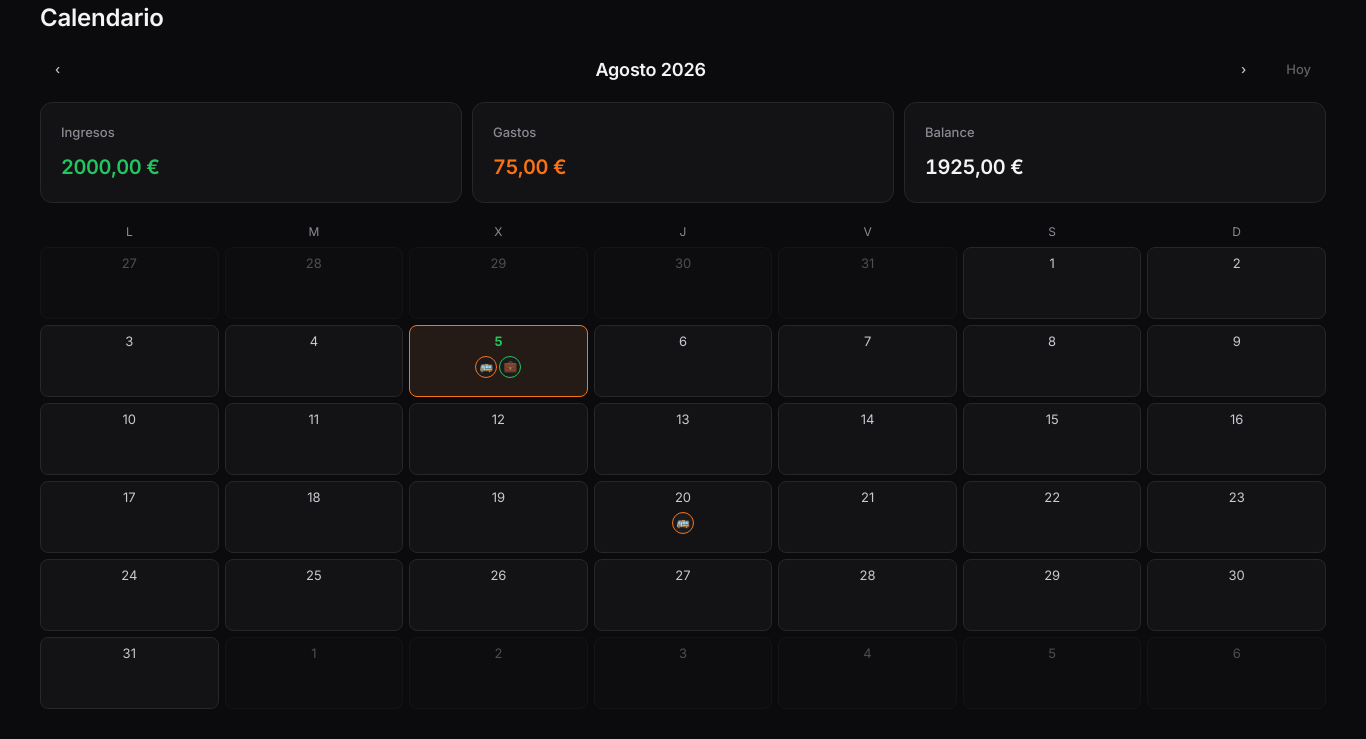
Test: CalendarPage › al pulsar otro día muestra sus movimientos; un día vacío muestra el mensaje
Click the cell named "20 de agosto, 1 movimiento" at (683, 517), box top-left (594, 481), bottom-right (772, 553)
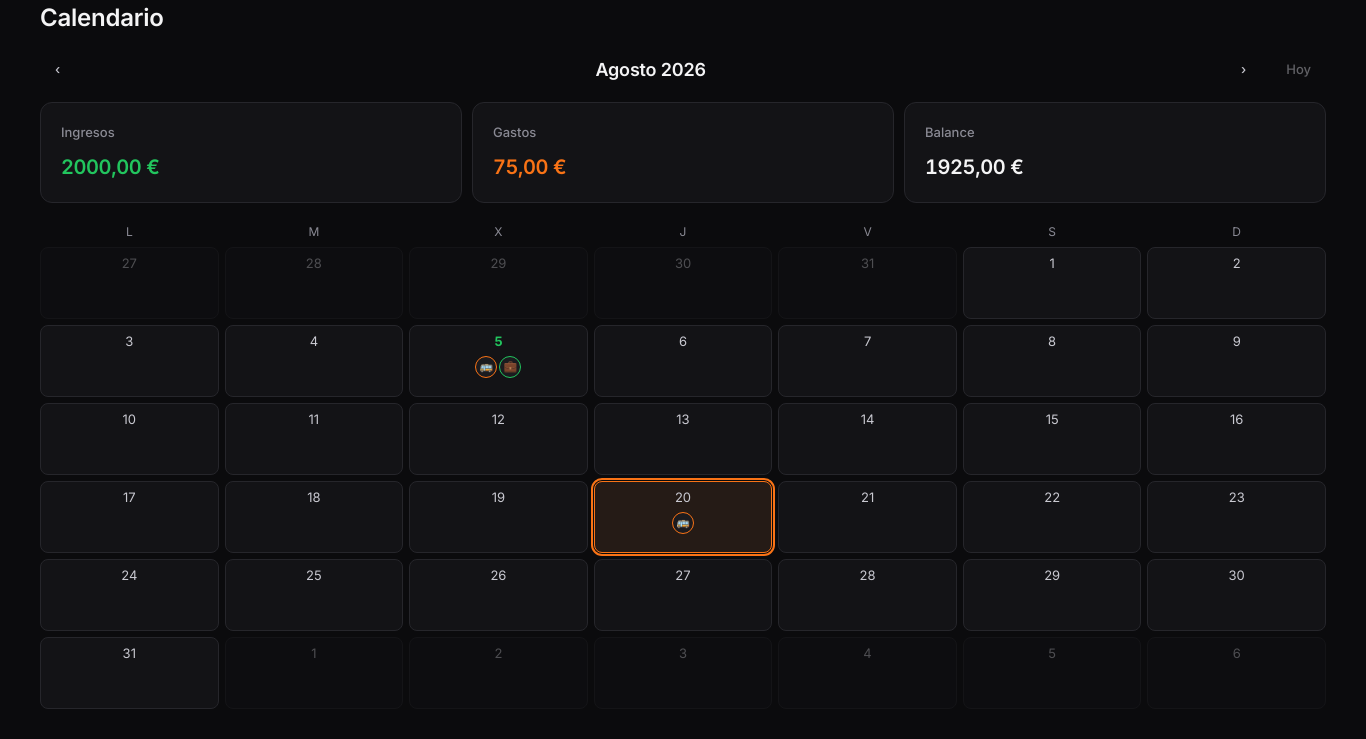
Click the cell named "martes, 11 de agosto" at (314, 439), box top-left (225, 403), bottom-right (403, 475)
(page scrolled)
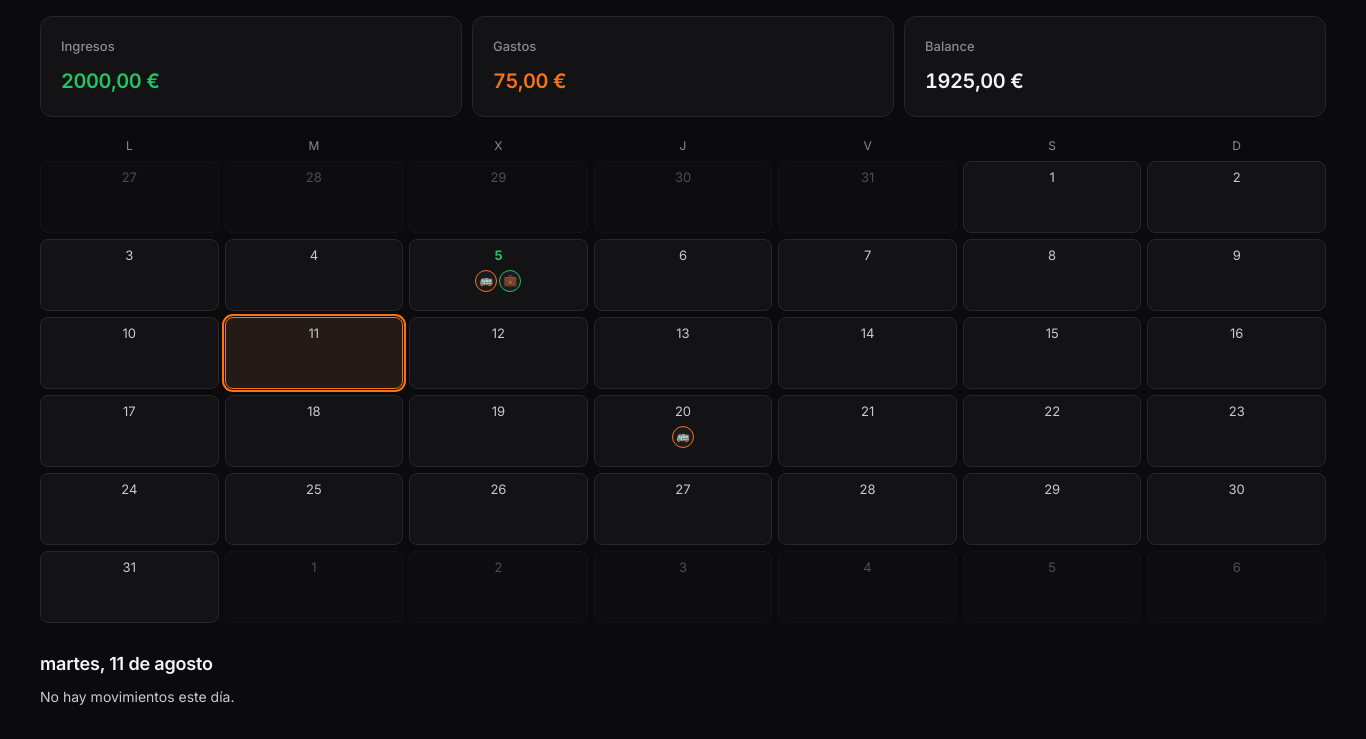
Check: the text "No hay movimientos este día." is shown, box top-left (40, 688), bottom-right (234, 705)
